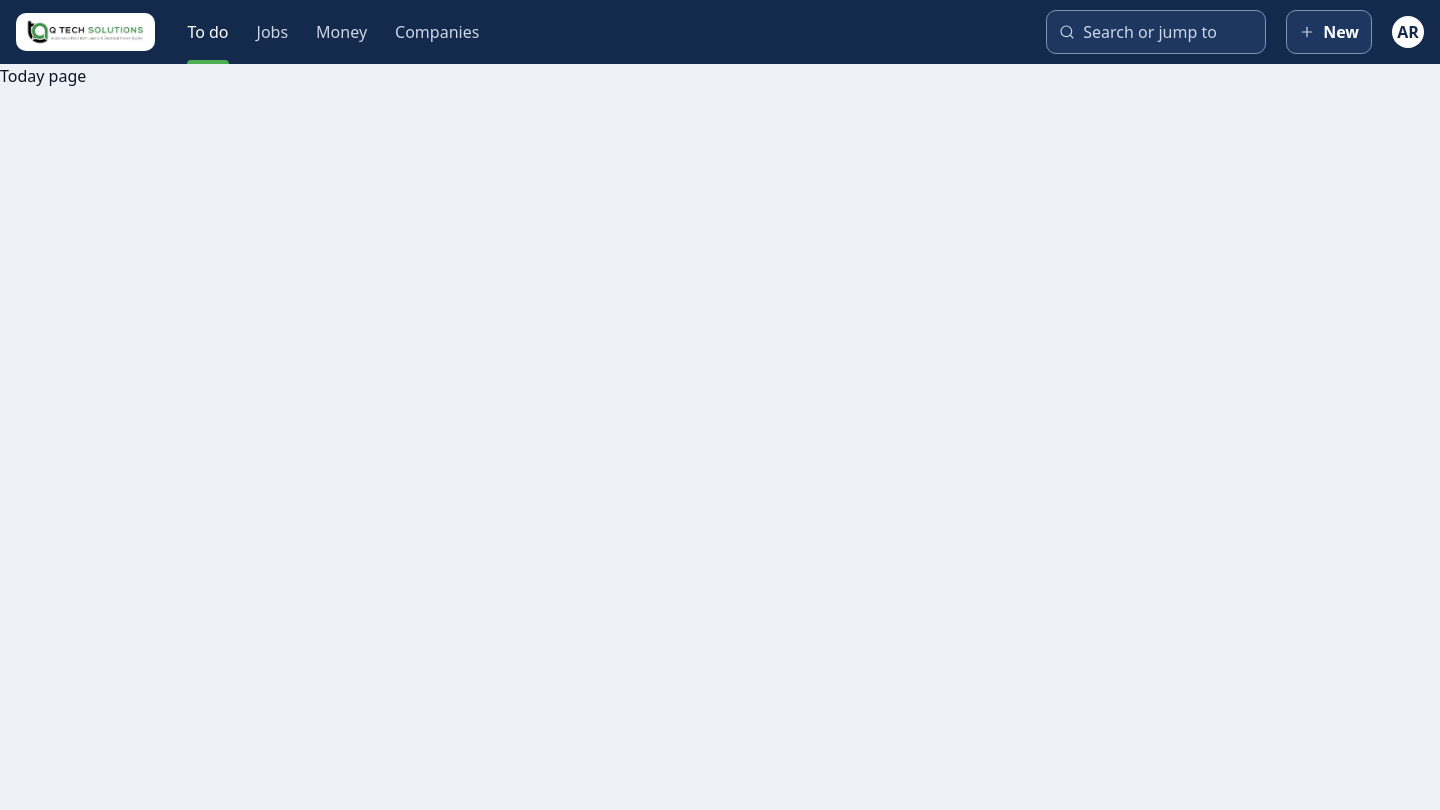
Test case: search button and Cmd/Ctrl+K open the palette (U08) › the top-bar search button opens it; it lists this role's destinations; Enter goes there
This screenshot has width=1440, height=810.
Step 1. Click the button "Search or jump to" → (1156, 32), box [1046,10,1266,54]
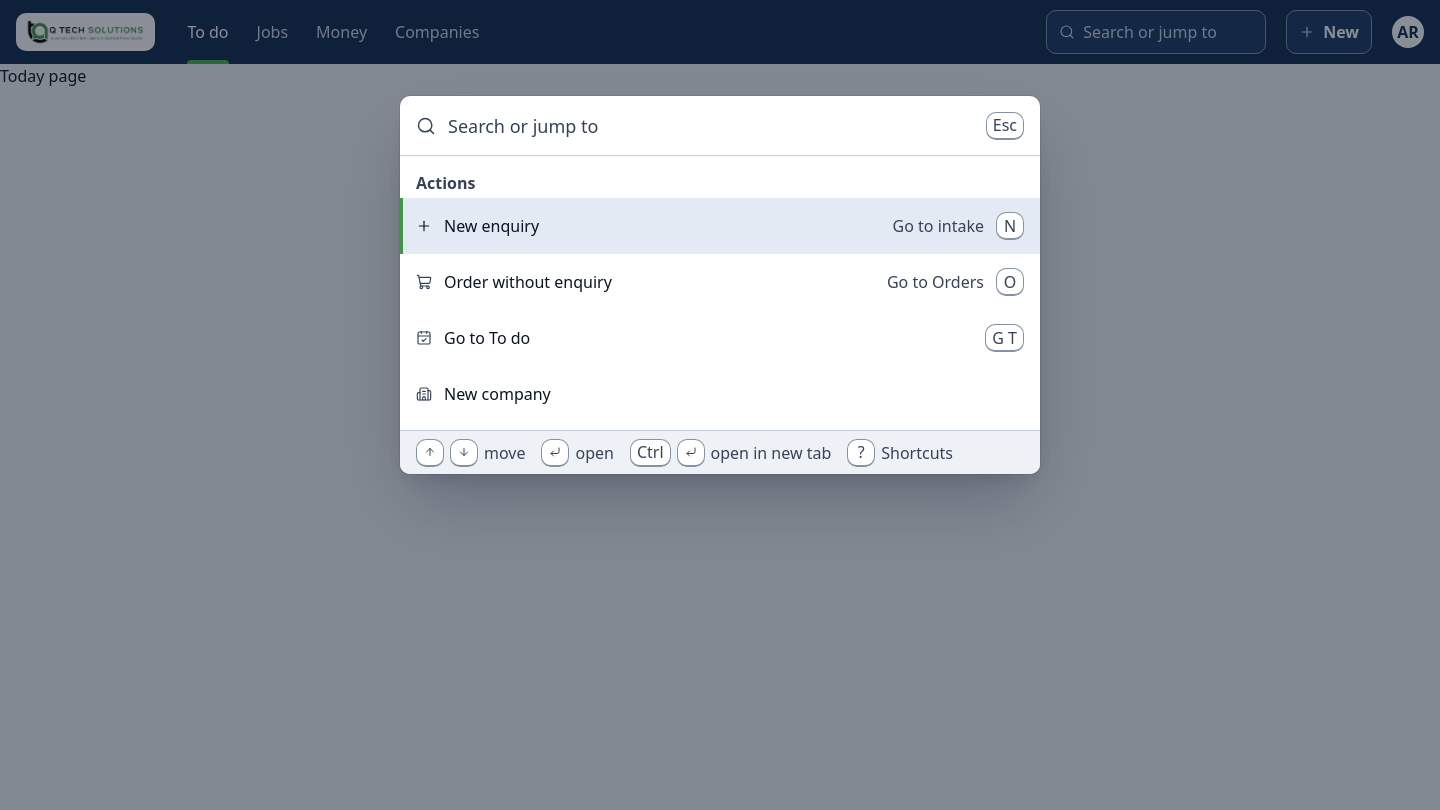
Step 2. Type keys "rfq{Enter}"
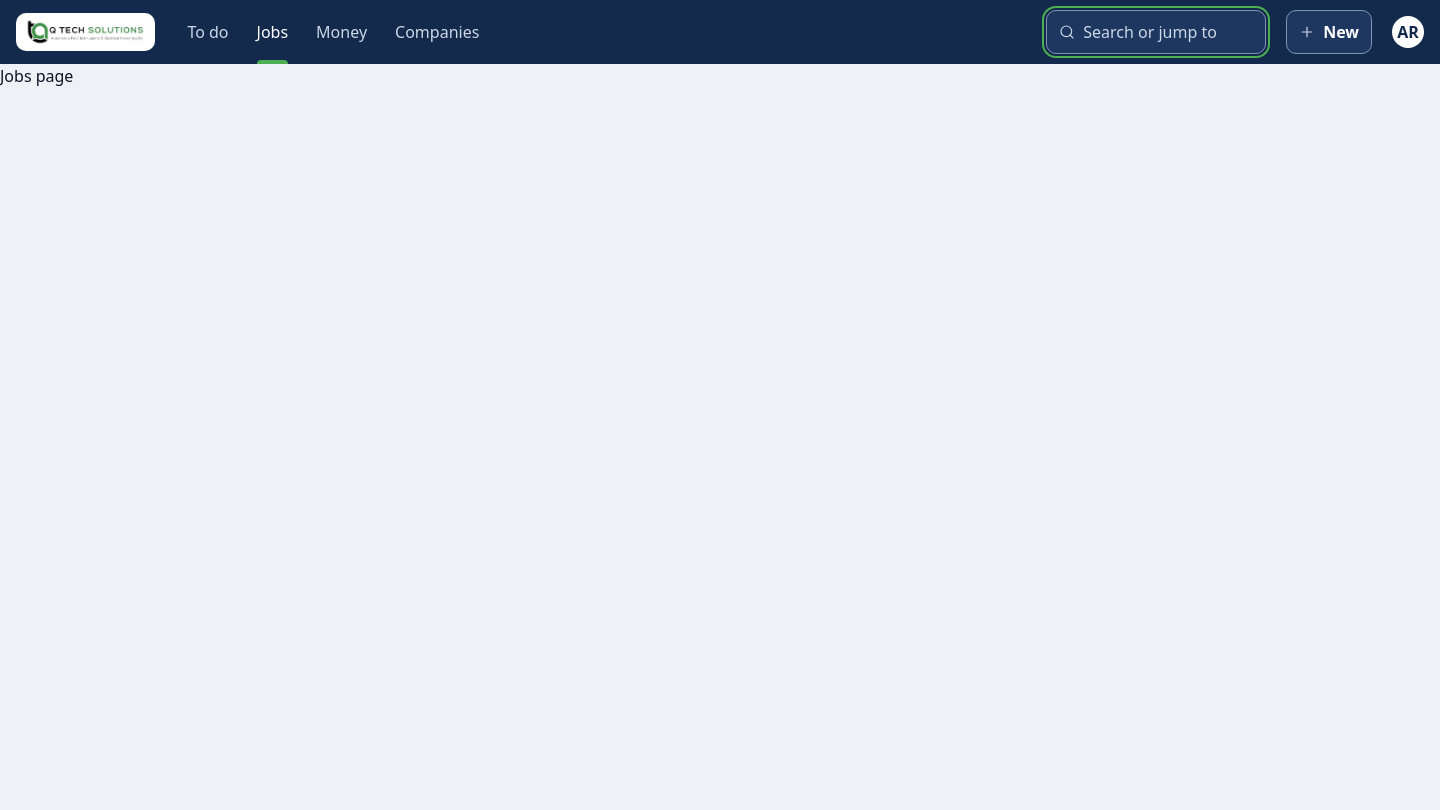
Expected: the text "Jobs page" is shown, [0,65,73,87]
Expected: the dialog is gone
